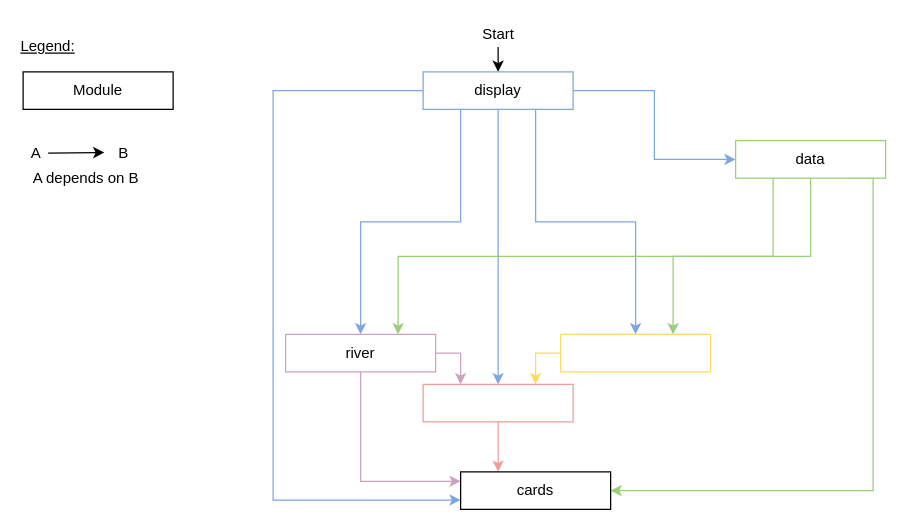
Some shapes in this 908 by 531 pixel diagram are drawn without their labels. The centre of each missing label's shape, as x and y in pixels:
pdf: [635,352]
selection: [497,402]
